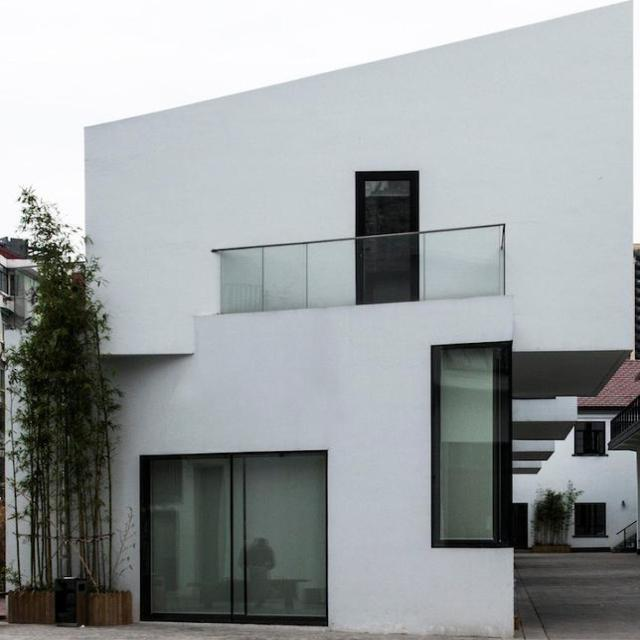door: (143, 453, 331, 627)
railing: (216, 222, 506, 315)
window: (429, 345, 511, 547), (355, 170, 418, 234)
